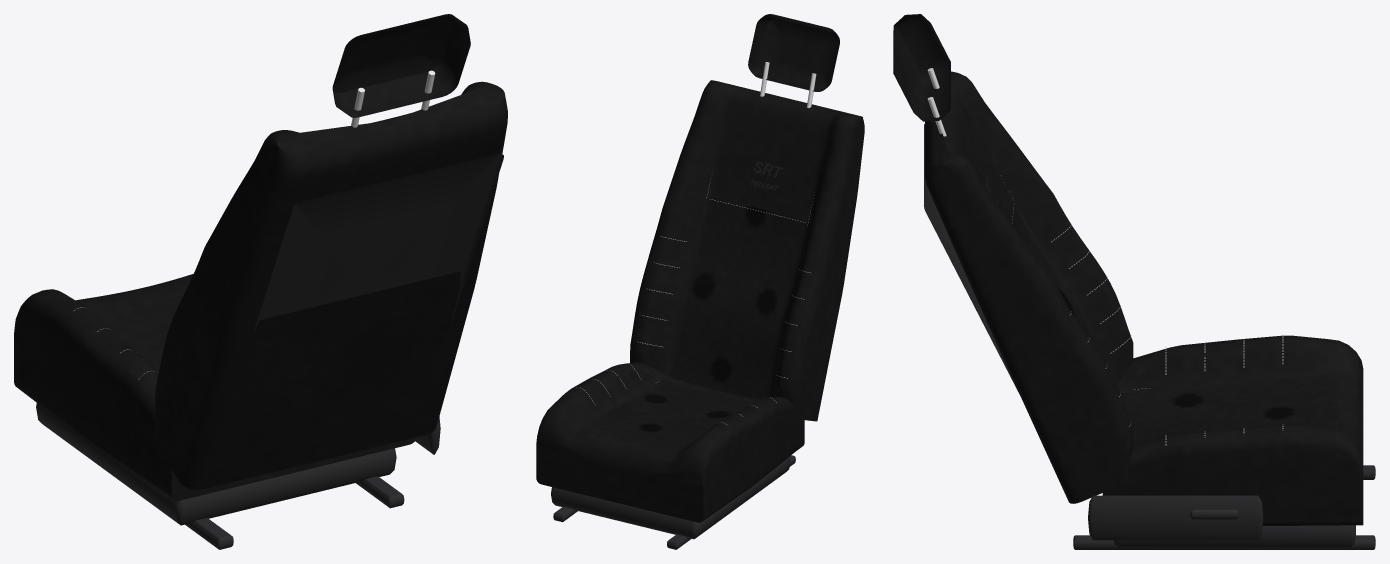
Rendered from seat_FR.fbx.
The picture shows the model from 3 angles, left to right: view 1: azimuth 30°, elevation 25°; view 2: azimuth 150°, elevation 25°; view 3: azimuth 270°, elevation 25°; orthographic projection. The views are drawn at different scales.
Parts seen in each view (by area): view 1: CH_Int_Seat_FR; view 2: CH_Int_Seat_FR; view 3: CH_Int_Seat_FR.
Part boxes in pixels (bbox=[...]): CH_Int_Seat_FR: bbox=[14, 14, 507, 549]; CH_Int_Seat_FR: bbox=[536, 14, 864, 549]; CH_Int_Seat_FR: bbox=[893, 14, 1375, 549].
Bounding box in the file's own units: 0.545 × 1.09 × 0.9889.
